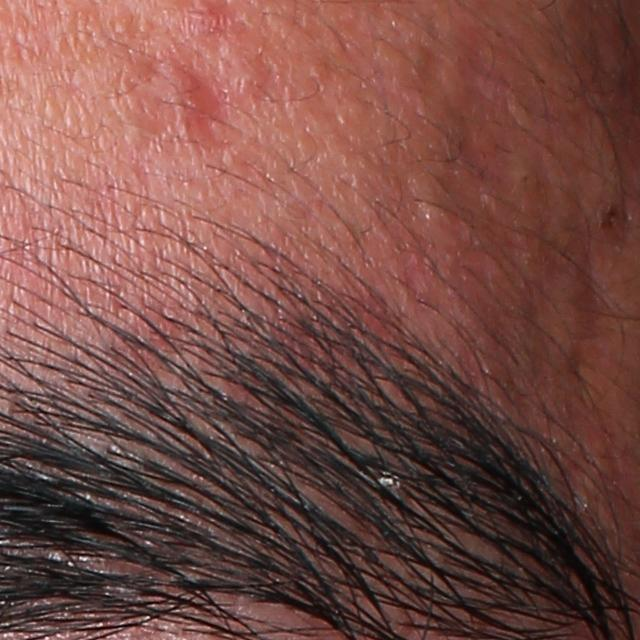papule: (142, 61, 216, 128)
